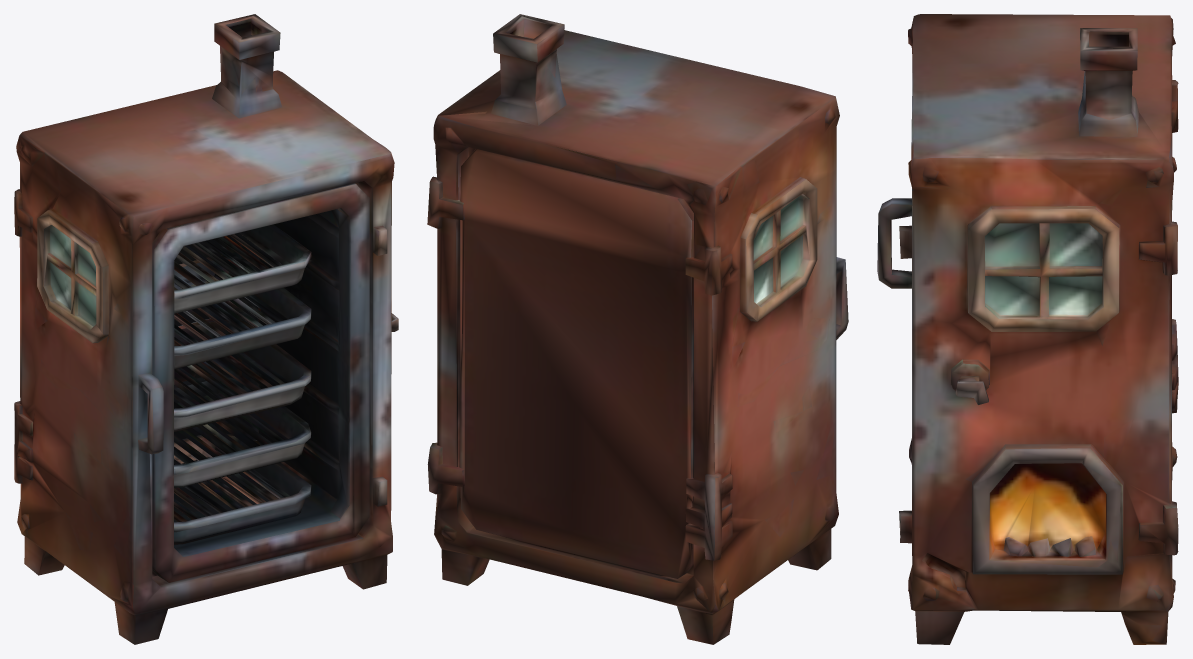
File: honganji-2.glb
The picture shows the model from 3 angles, left to right: view 1: azimuth 30°, elevation 25°; view 2: azimuth 150°, elevation 25°; view 3: azimuth 270°, elevation 25°; orthographic projection. The views are drawn at different scales.
Visible parts, largest first — view 1: node_0; view 2: node_0; view 3: node_0.
Part boxes in pixels (x1=…): node_0: x1=14, y1=14, x2=398, y2=644; node_0: x1=427, y1=14, x2=848, y2=644; node_0: x1=877, y1=14, x2=1178, y2=644.
Bounding box in the file's own units: 0.5939 × 0.9872 × 0.4681.
1 material, 1 textured.
